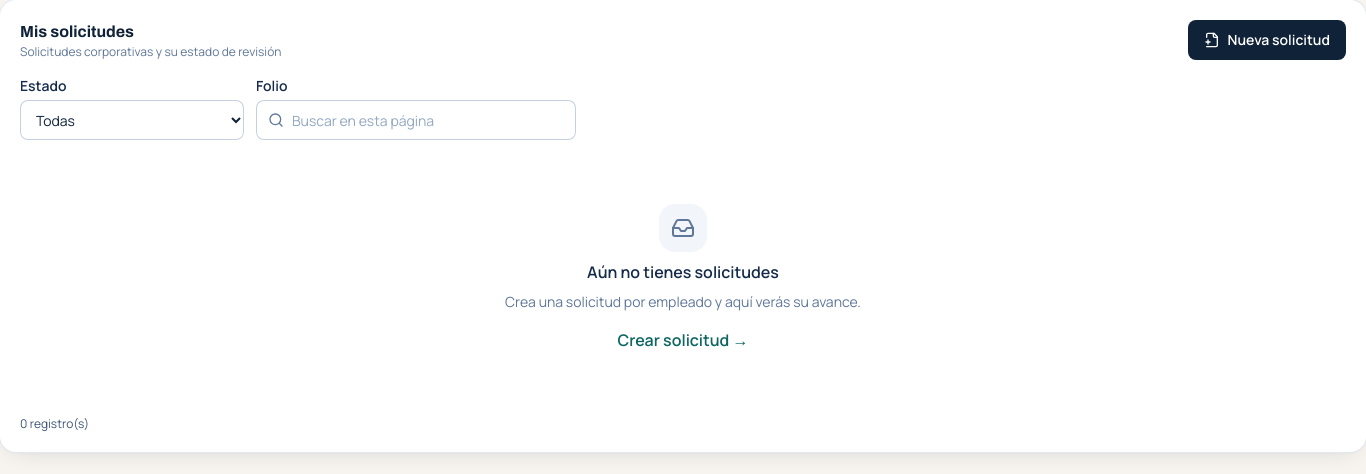
lista de solicitudes del portal › vacío sin filtro invita a crear; vacío con filtro lo dice sin ofrecer crear
Expected: the text "Aún no tienes solicitudes" is shown, [587, 260, 779, 284]
Expected: the link "Crear solicitud →" is shown, [618, 328, 748, 352]
Step 1. Select "Cerrado" in the dropdown labelled "Estado" → (132, 120), box [20, 100, 244, 140]
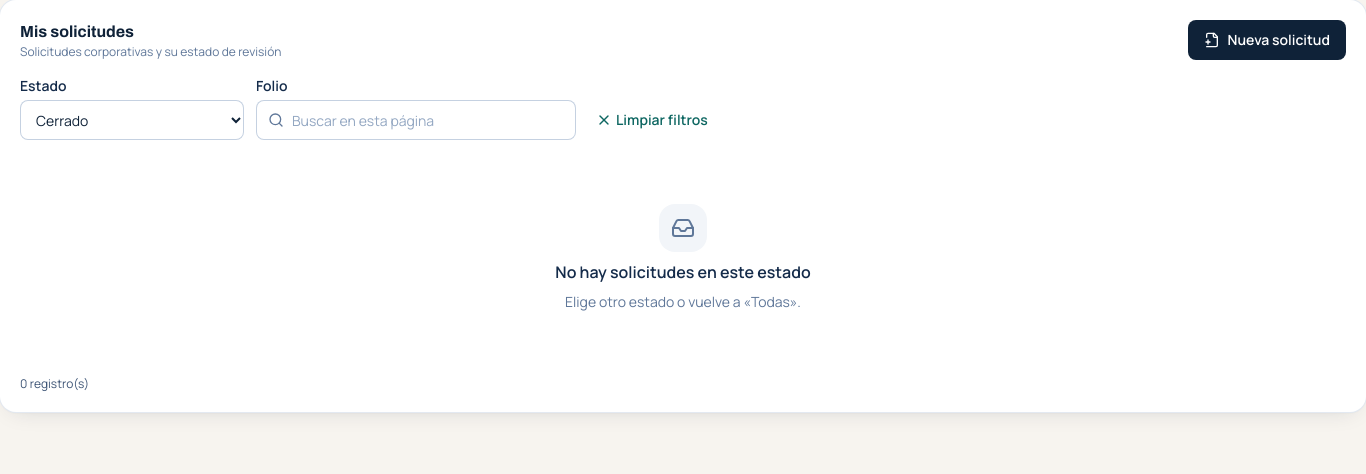
Expected: the text "No hay solicitudes en este estado" is shown, [555, 260, 811, 284]
Expected: the link "Crear solicitud" is gone
